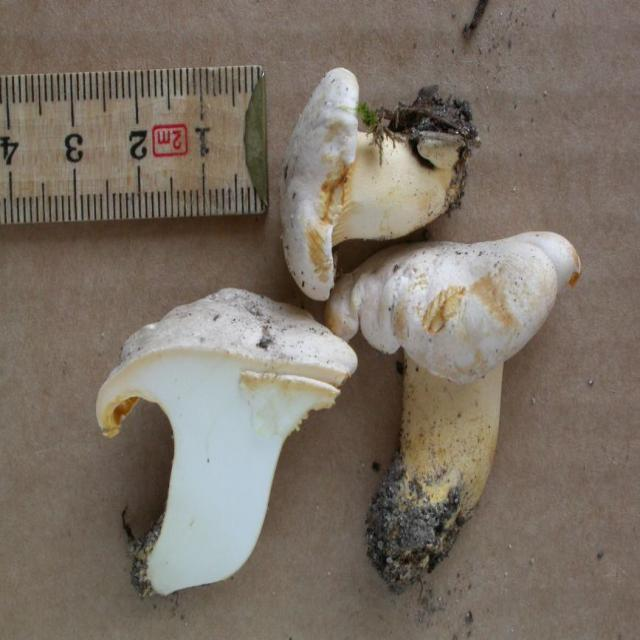Cantharellus cibarius: (331, 233, 582, 588), (98, 290, 355, 594), (283, 71, 471, 302)
